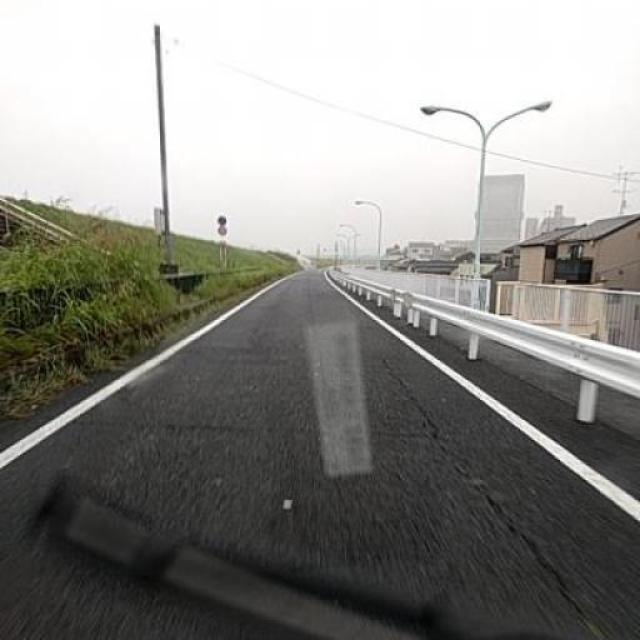Guard rail: (338, 267, 640, 444)
